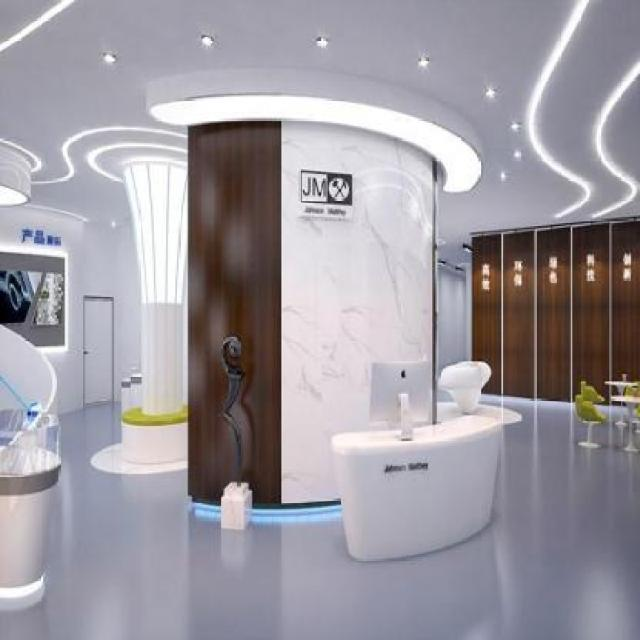frontdesk: (323, 390, 529, 568)
